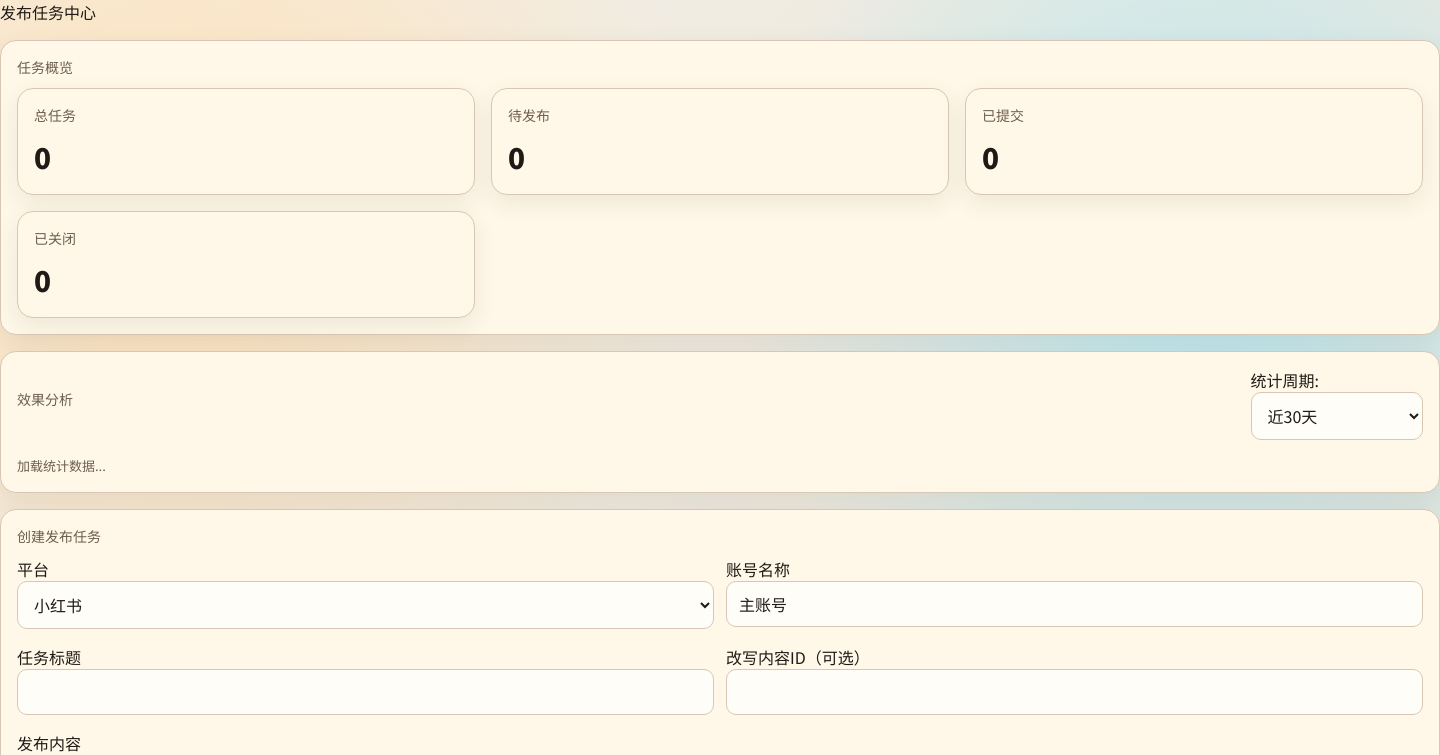
Test: PublishPage › submits create task form with cleaned payload
The image size is (1440, 755).
Expected: the text "创建发布任务" is shown, [17, 526, 101, 546]
Type "新测试任务" into the field below "任务标题" at (366, 692), box [17, 668, 714, 714]
(page scrolled)
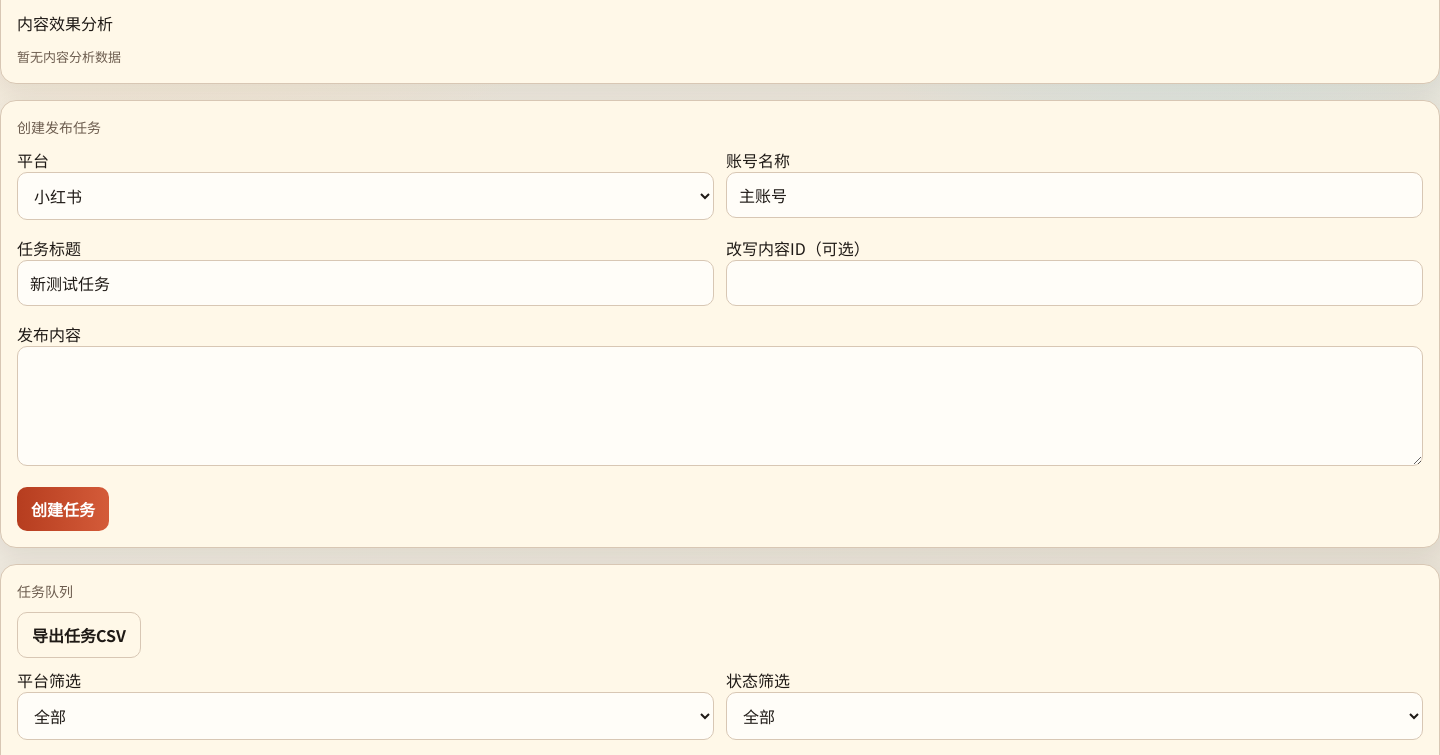
Type "这里是一段待发布内容" into the text box at (720, 406), box [17, 346, 1423, 466]
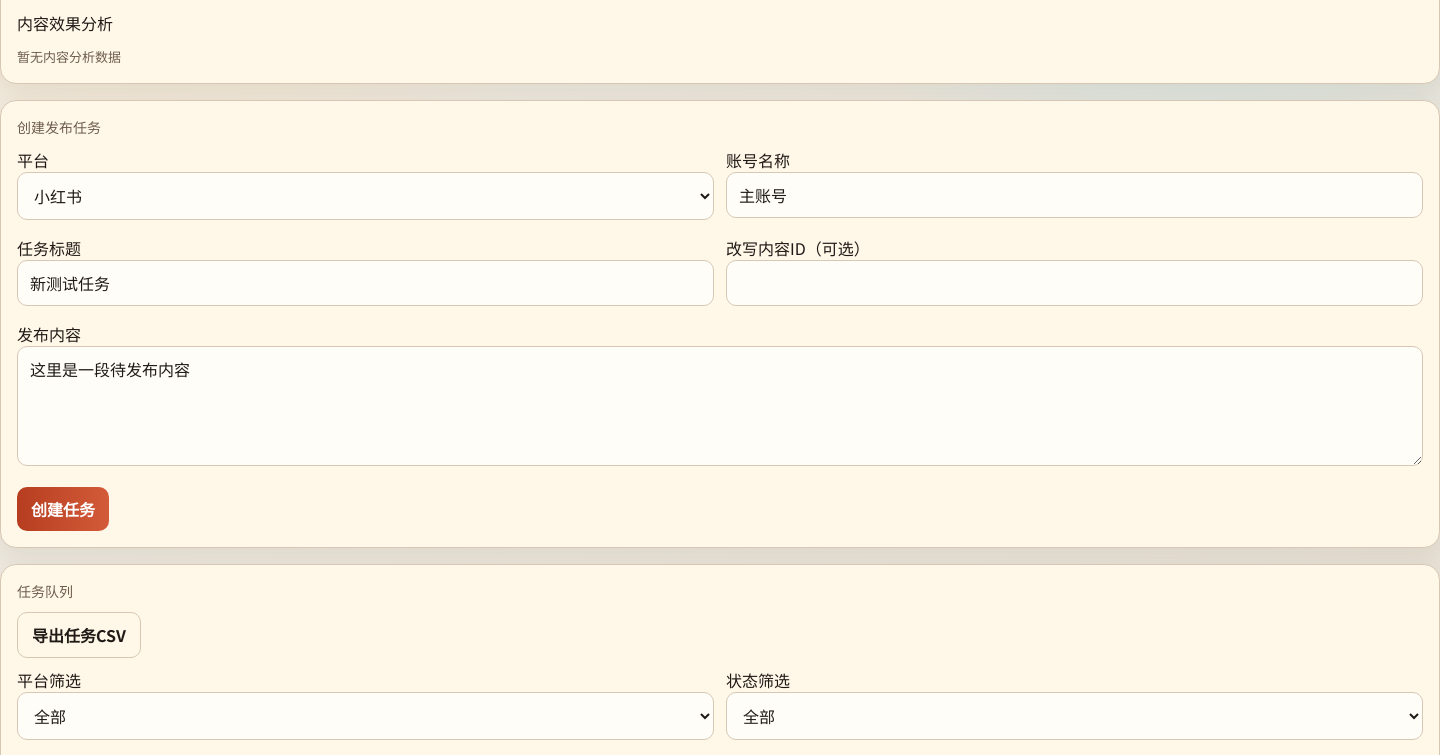
Click the button "创建任务" at (63, 508), box [17, 486, 109, 530]
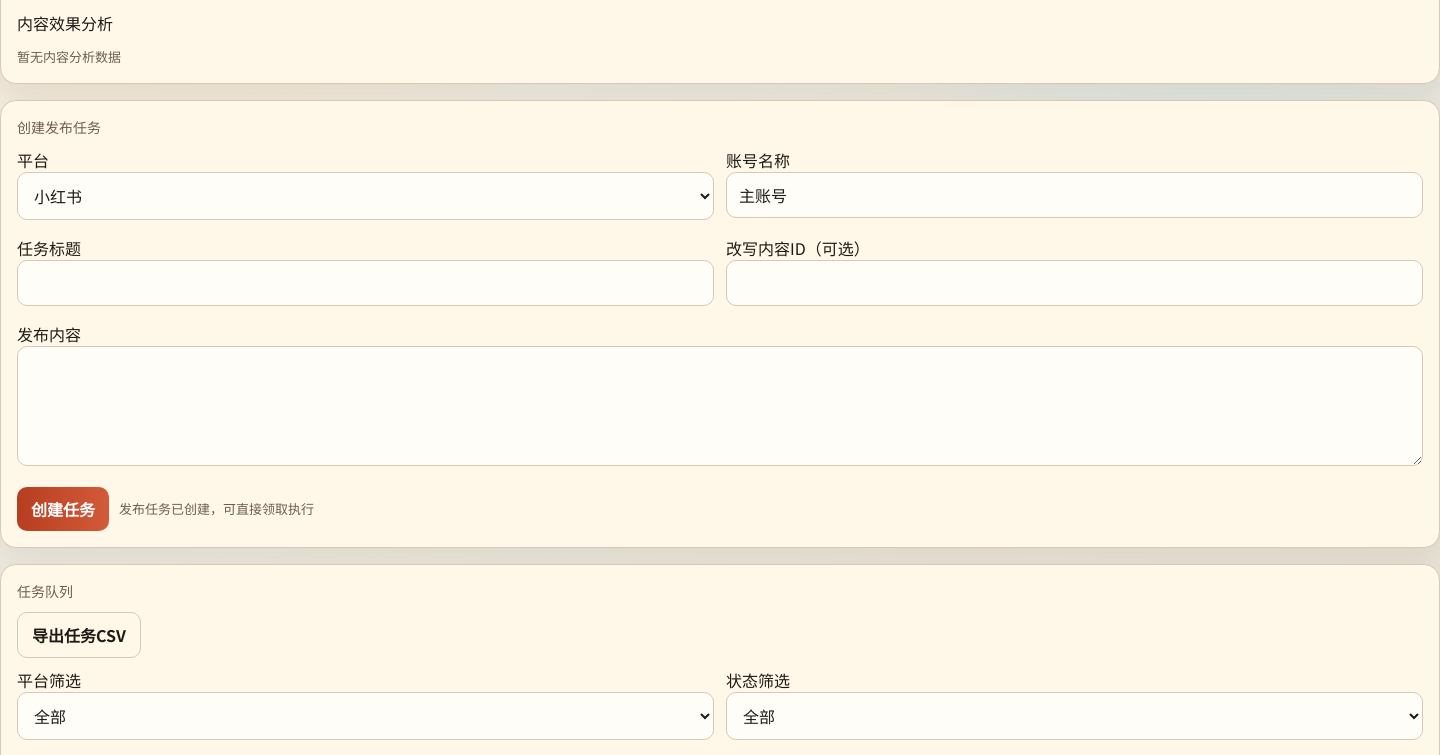
Expected: the text "发布任务已创建，可直接领取执行" is shown, [119, 499, 314, 518]
